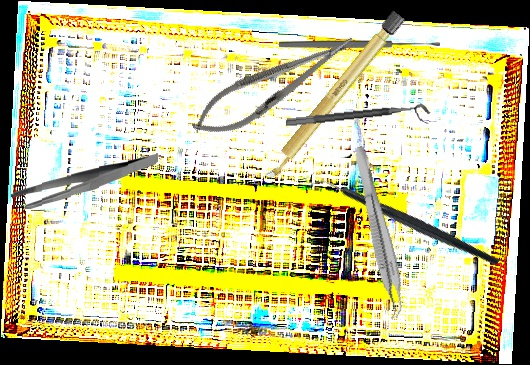Chopper: (307, 126, 501, 321)
Dressing Forceps: (10, 153, 160, 210)
Fixation Ring: (285, 102, 432, 139)
Needle Holder: (183, 21, 365, 150)
Scalpel Handle: (260, 9, 406, 184)
Surgical Spoon: (279, 40, 440, 49)
Tissue Forceps: (343, 145, 412, 320)
